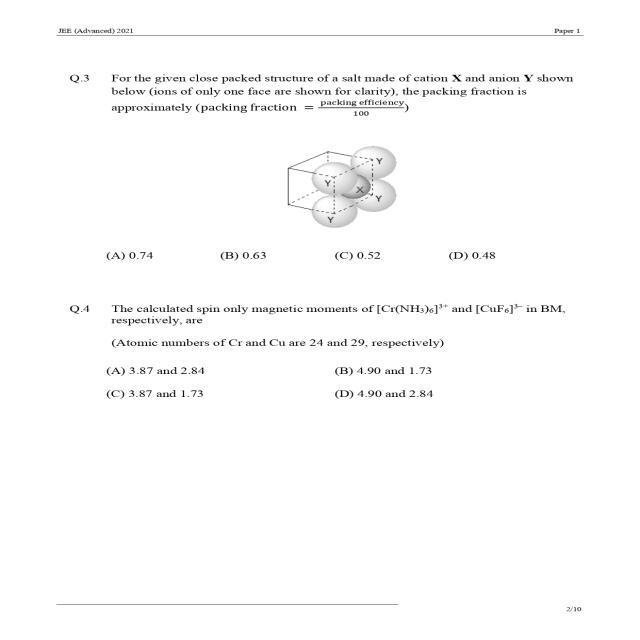Answer_Block: (47, 359, 598, 442), (47, 244, 598, 282)
Question_Answer_Block: (47, 51, 598, 283), (47, 292, 598, 442)
Question_Block: (47, 51, 598, 240), (47, 294, 598, 354)
Question_Paper_Area: (47, 51, 598, 579)
